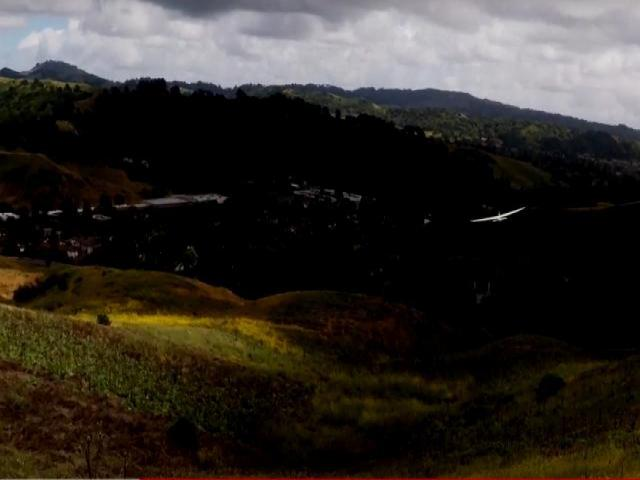iha: (468, 201, 525, 227)
